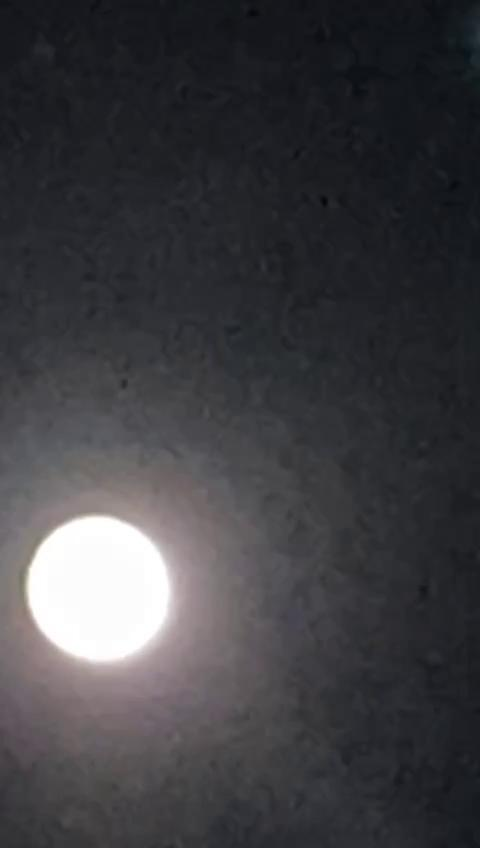moon: (40, 483, 212, 674)
